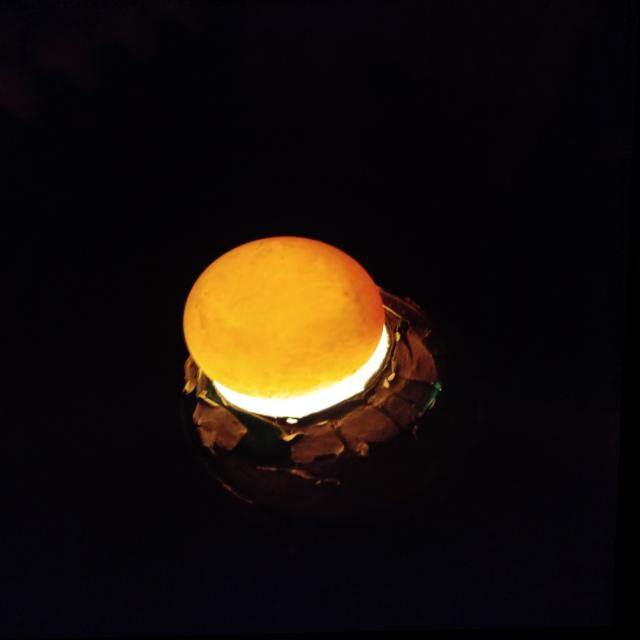Gema Quebrada: (264, 238, 388, 348)
